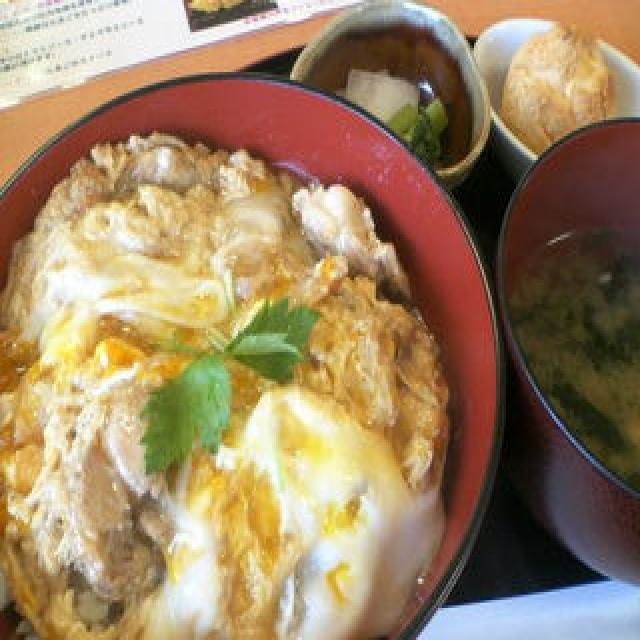米饭主食: (0, 74, 500, 640)
